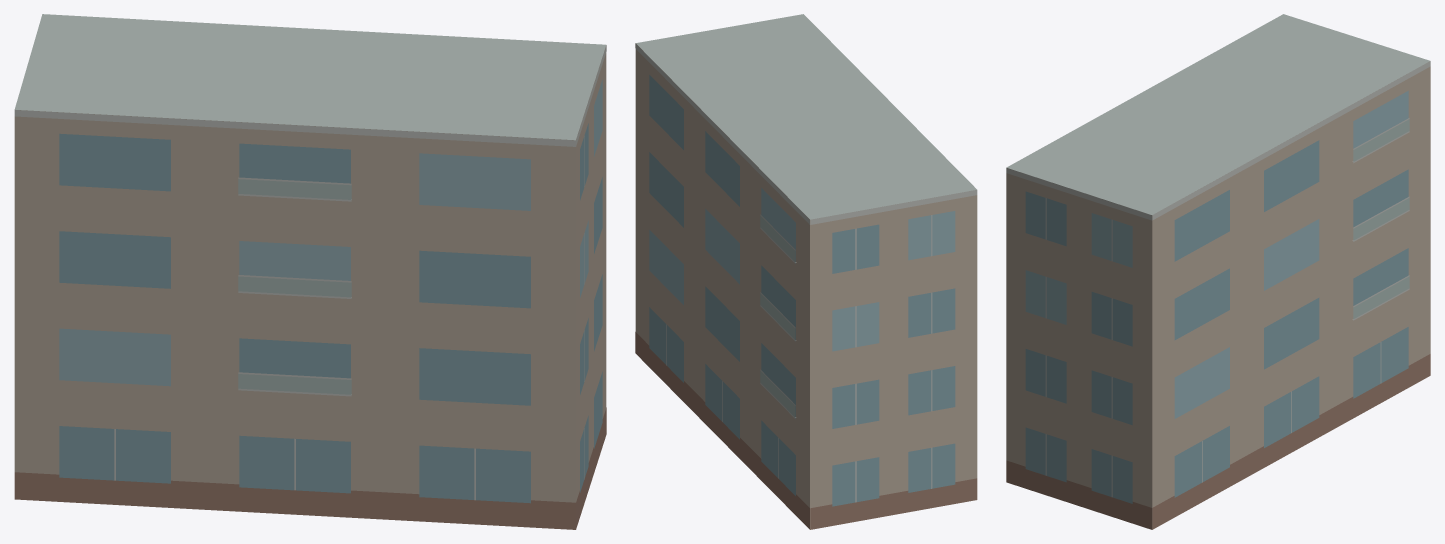
Rendered from survey-upis-33019291.glb.
3 renders of one model, left to right at view 1: azimuth 30°, elevation 25°; view 2: azimuth 150°, elevation 25°; view 3: azimuth 270°, elevation 25°, orthographic. The views are drawn at different scales.
Parts seen in each view (by area): view 1: survey-upis-33019291.tmp; view 2: survey-upis-33019291.tmp; view 3: survey-upis-33019291.tmp.
Part boxes in pixels (bbox=[...]): survey-upis-33019291.tmp: bbox=[14, 14, 606, 529]; survey-upis-33019291.tmp: bbox=[635, 14, 977, 529]; survey-upis-33019291.tmp: bbox=[1006, 14, 1430, 529].
Size of the model in its own units: 19.41 by 14.15 by 17.3.
